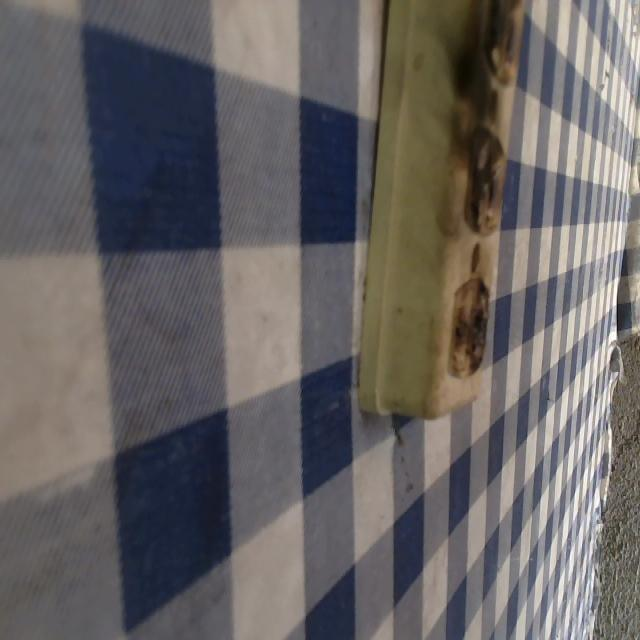-: (465, 120, 506, 237), (448, 271, 491, 380), (483, 0, 522, 91)
